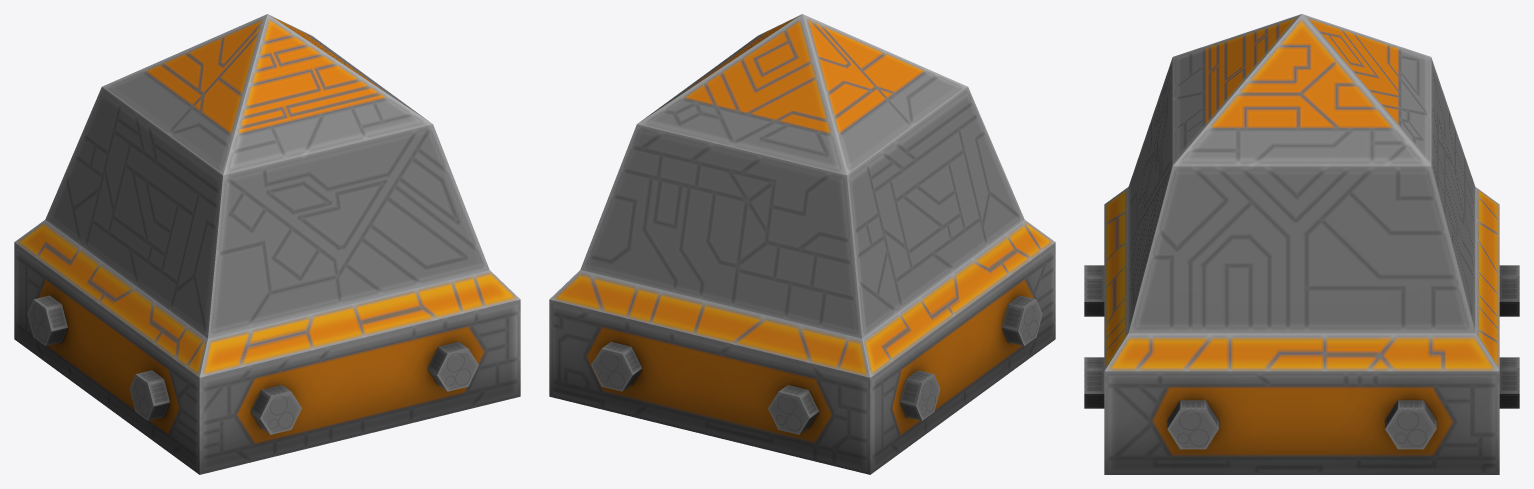
File: Generic_02.dae
3 views of the same model, side by side, from view 1: azimuth 30°, elevation 25°; view 2: azimuth 150°, elevation 25°; view 3: azimuth 270°, elevation 25° (orthographic). The views are drawn at different scales.
Parts seen in each view (by area): view 1: Generic_02; view 2: Generic_02; view 3: Generic_02.
Part boxes in pixels (x1,y1,x2,y2): Generic_02: (14, 14, 520, 474); Generic_02: (549, 14, 1055, 474); Generic_02: (1084, 14, 1519, 474).
Bounding box in the file's own units: 2 × 1.91 × 2.
